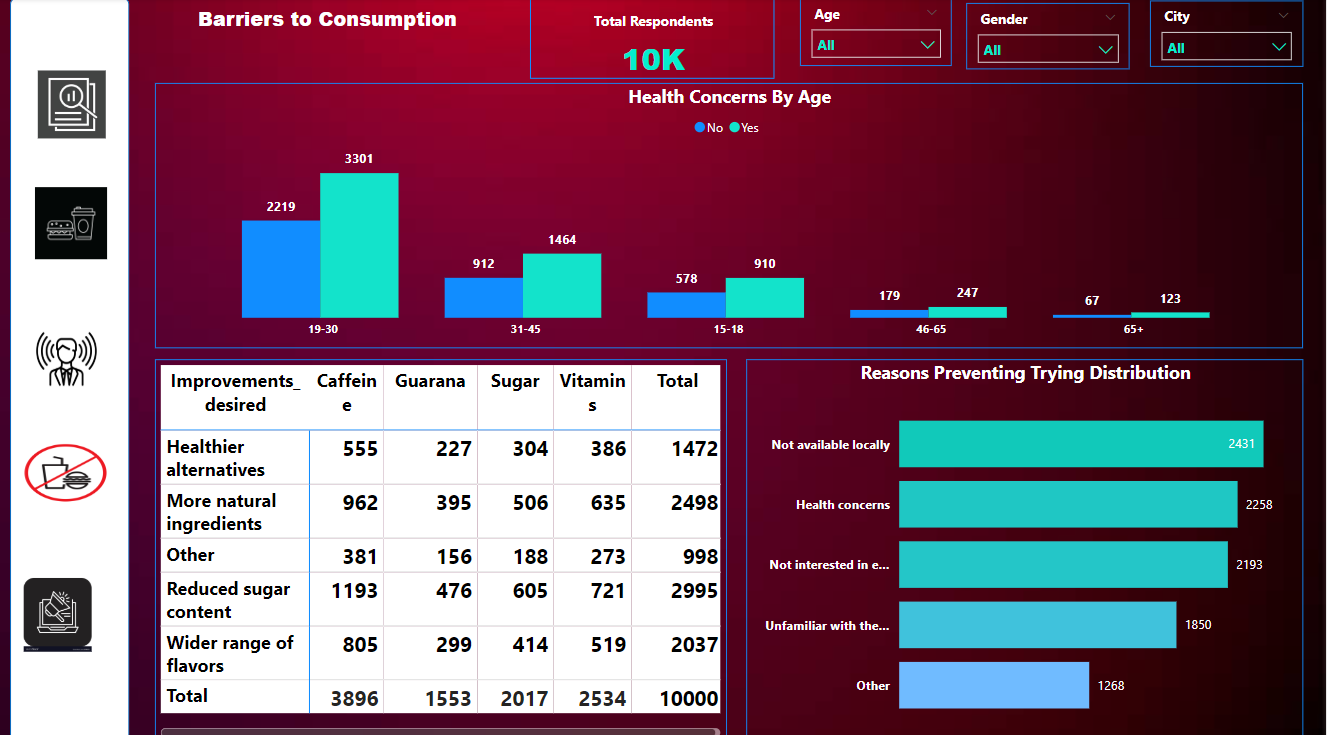

What the dashboard file says about the page in this screenshot:
{"tool":"powerbi","page":{"name":"Barriers to Consumption","canvas":[1280,720],"ordinal":3},"visuals":[{"type":"shape","box":[10,0,115.2,719.6],"z":0},{"type":"image","box":[29.9,310,68.3,76.8],"z":1000},{"type":"image","box":[15.6,423.8,95.3,69.7],"z":2000},{"type":"image","box":[15.6,65.4,106.7,75.4],"z":3000},{"type":"image","box":[12.8,554.7,85.3,81.1],"z":4000},{"type":"image","box":[28.4,176.4,79.6,82.5],"z":5000},{"type":"textbox","box":[125.2,1.4,381.2,65.4],"z":6000},{"type":"slicer","fields":{"Values":["dim_repondents.Age"]},"box":[772.3,0,146.5,65.4],"z":7000},{"type":"slicer","fields":{"Values":["dim_repondents.Gender"]},"box":[933,4.3,157.9,64],"z":8000},{"type":"slicer","fields":{"Values":["dim_cities.City"]},"box":[1109.3,2.8,147.9,64],"z":9000},{"type":"clusteredColumnChart","title":"Health Concerns By  Age","fields":{"Category":["dim_repondents.Age"],"Series":["fact_survey_responses.Health_concerns"],"Y":["dim_repondents.Total Respondents"]},"box":[149.3,82.5,1107.9,256],"z":10000},{"type":"clusteredBarChart","title":"Reasons Preventing Trying Distribution","fields":{"Y":["CountNonNull(fact_survey_responses.Reasons_preventing_trying)"],"Category":["fact_survey_responses.Reasons_preventing_trying"]},"box":[719.6,348.4,537.6,368.4],"z":11000},{"type":"pivotTable","title":"Frequency Of Consumption","fields":{"Rows":["fact_survey_responses.Improvements_desired"],"Columns":["fact_survey_responses.Ingredients_expected"],"Values":["dim_repondents.Total Respondents"]},"box":[149.3,348.4,551.8,371.2],"z":12000},{"type":"cardVisual","fields":{"Data":["dim_repondents.Total Respondents"]},"box":[506.3,0,246,83.9],"z":13000}]}

Visuals, with their boxes in screenshot pixels (x1, y1, x2, y2), scaled from the page's 1280x720 canvas onto the 1327x735 screenshot:
shape: 10, 0, 130, 734
image: 31, 316, 102, 395
image: 16, 433, 115, 504
image: 16, 67, 127, 144
image: 13, 566, 102, 649
image: 29, 180, 112, 264
textbox: 130, 1, 525, 68
slicer - dim_repondents.Age: 801, 0, 953, 67
slicer - dim_repondents.Gender: 967, 4, 1131, 70
slicer - dim_cities.City: 1150, 3, 1303, 68
"Health Concerns By  Age" clusteredColumnChart: 155, 84, 1303, 346
"Reasons Preventing Trying Distribution" clusteredBarChart: 746, 356, 1303, 732
"Frequency Of Consumption" pivotTable: 155, 356, 727, 734
cardVisual - dim_repondents.Total Respondents: 525, 0, 780, 86
